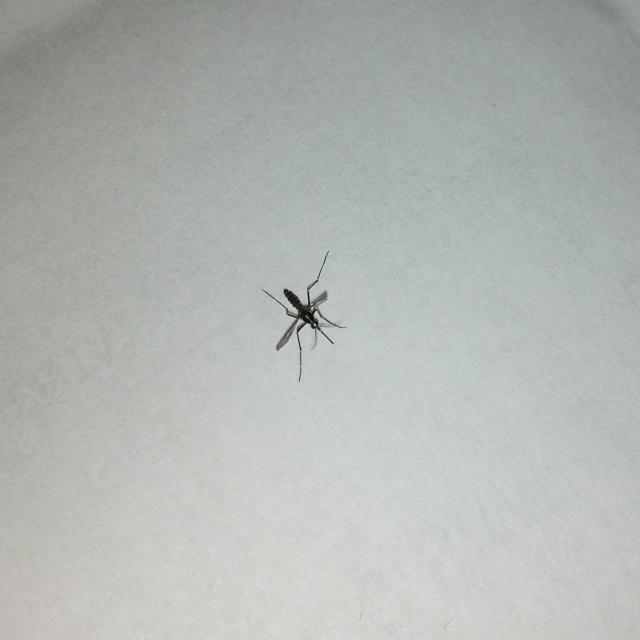albopictus: (256, 238, 349, 381)
